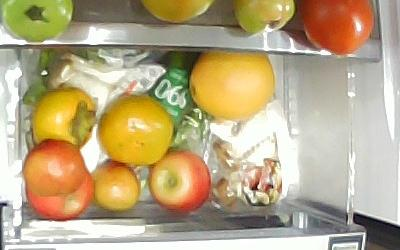apple: (149, 151, 212, 215), (24, 167, 94, 221)
grapefruit: (190, 50, 276, 120)
persimmon: (98, 92, 173, 166), (31, 87, 97, 150)
prune: (24, 139, 83, 196), (94, 160, 142, 213)
